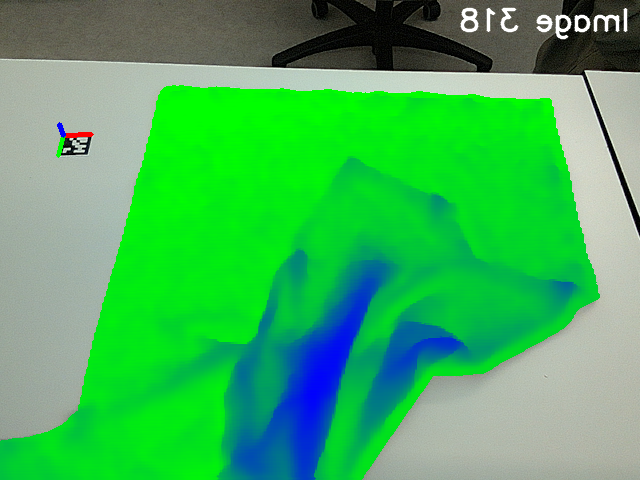V: (332, 146, 379, 189)
